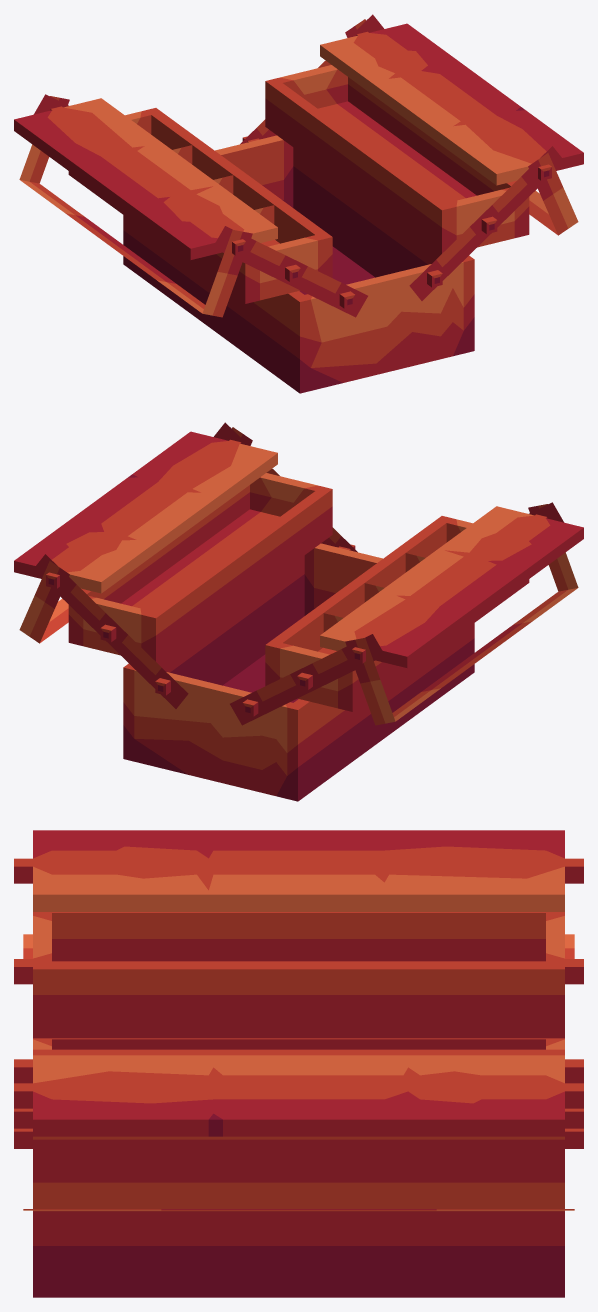
File: toolbox.fbx
3 renders of one model, top to bottom at view 1: azimuth 30°, elevation 25°; view 2: azimuth 150°, elevation 25°; view 3: azimuth 270°, elevation 25°, orthographic. The views are drawn at different scales.
Visible parts, largest first — view 1: mainbox, shelf2, lid2, lid1, shelf1, handle1, hinge4, hinge2, handle2, hinge3; view 2: mainbox, shelf2, lid2, lid1, shelf1, handle1, hinge3, hinge1, handle2, hinge4; view 3: shelf1, mainbox, lid1, lid2, shelf2, handle2, bolts1, bolts2.
Part boxes in pixels (left/top/right/bottom): mainbox: left=123, top=135, right=474, bottom=393; shelf2: left=265, top=65, right=529, bottom=254; lid2: left=320, top=23, right=583, bottom=185; lid1: left=14, top=98, right=277, bottom=259; shelf1: left=68, top=108, right=332, bottom=303; handle1: left=19, top=96, right=252, bottom=317; hinge4: left=409, top=146, right=564, bottom=300; hinge2: left=213, top=226, right=367, bottom=317; handle2: left=345, top=19, right=578, bottom=235; hinge3: left=240, top=14, right=383, bottom=144; mainbox: left=123, top=543, right=474, bottom=801; shelf2: left=68, top=473, right=332, bottom=662; lid2: left=14, top=431, right=277, bottom=593; lid1: left=320, top=506, right=583, bottom=667; shelf1: left=265, top=516, right=529, bottom=711; handle1: left=345, top=504, right=578, bottom=725; hinge3: left=33, top=554, right=188, bottom=708; hinge1: left=230, top=634, right=384, bottom=725; handle2: left=19, top=427, right=252, bottom=643; hinge4: left=214, top=422, right=357, bottom=552; shelf1: left=14, top=912, right=583, bottom=1038; mainbox: left=33, top=1038, right=564, bottom=1297; lid1: left=14, top=830, right=583, bottom=911; lid2: left=14, top=1055, right=583, bottom=1136; shelf2: left=14, top=1049, right=583, bottom=1182; handle2: left=23, top=1209, right=574, bottom=1210; bolts1: left=14, top=1059, right=583, bottom=1083; bolts2: left=14, top=1128, right=583, bottom=1148.
Bounding box in the file's own units: 225 × 103 × 188.
1 material, 1 textured.
